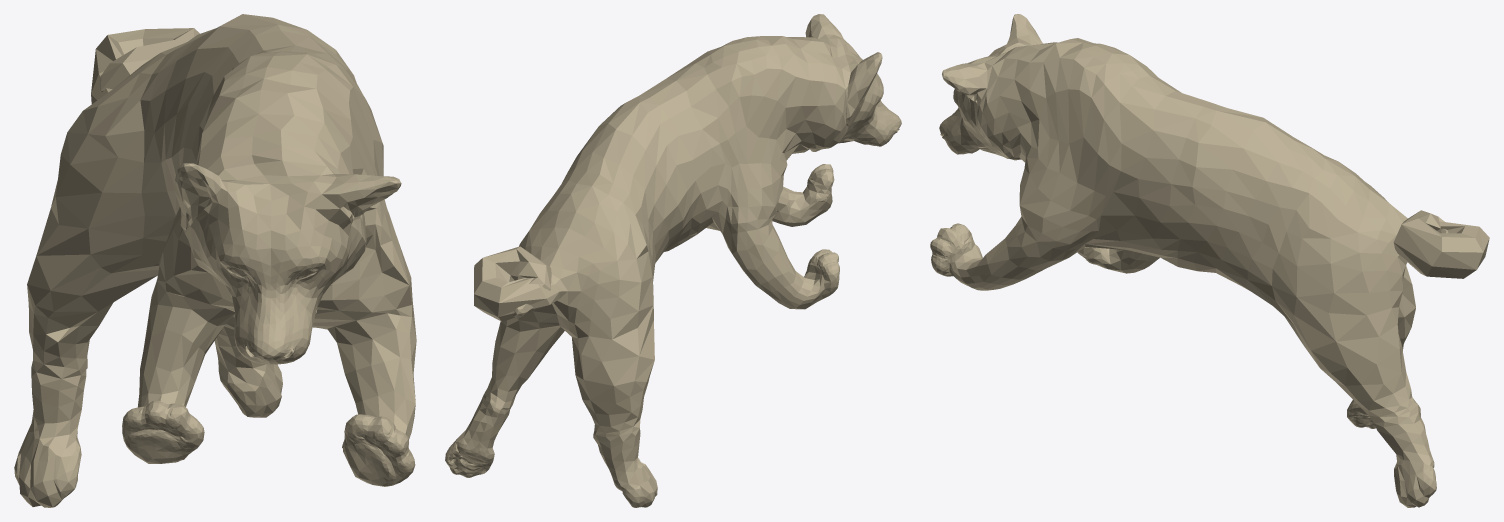
3 renders of one model, left to right at view 1: azimuth 30°, elevation 25°; view 2: azimuth 150°, elevation 25°; view 3: azimuth 270°, elevation 25°, orthographic. The views are drawn at different scales.
Visible parts, largest first — view 1: world; view 2: world; view 3: world.
Part boxes in pixels (box(x1,y1,x2,y2)): world: box(14, 14, 416, 507); world: box(445, 14, 901, 507); world: box(930, 14, 1489, 507).
Bounding box in the file's own units: 0.6389 × 0.8973 × 1.16.
